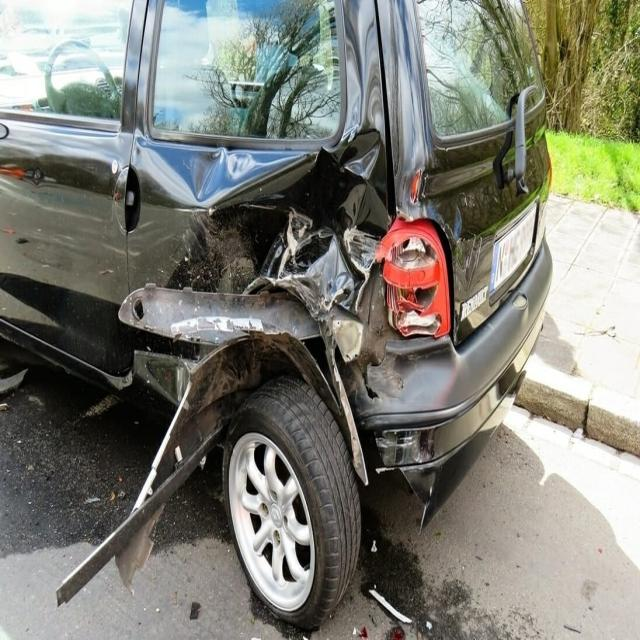crush: (56, 0, 481, 607)
